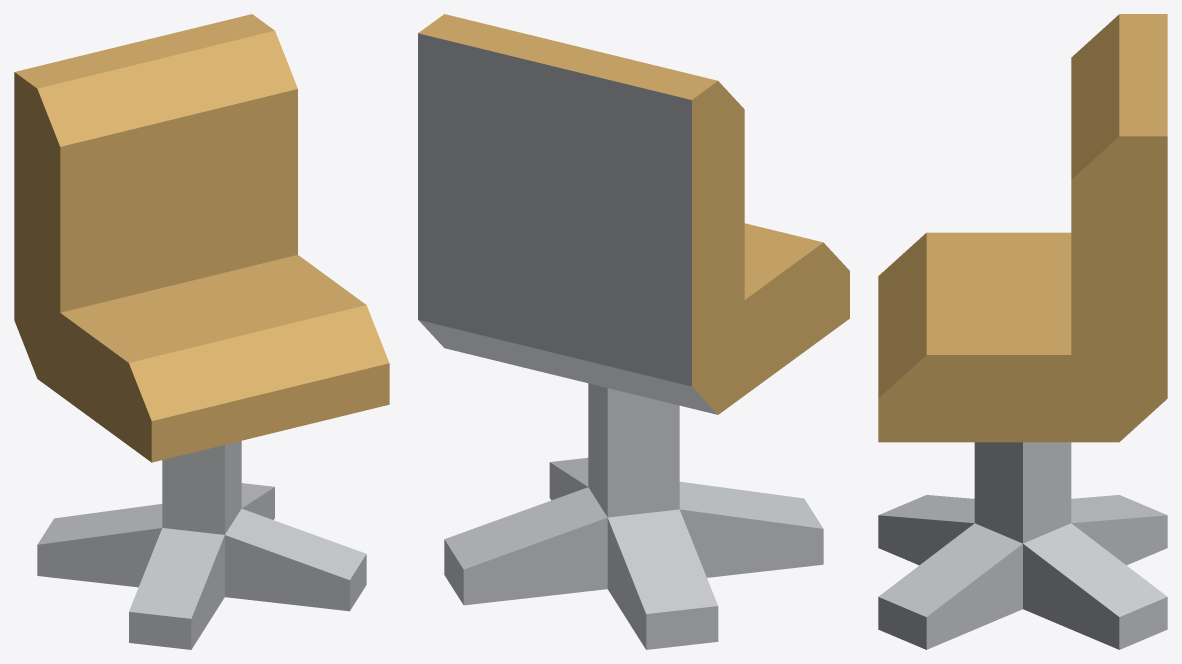
Rendered from desk_chair.glb.
3 renders of one model, left to right at view 1: azimuth 30°, elevation 25°; view 2: azimuth 150°, elevation 25°; view 3: azimuth 270°, elevation 25°, orthographic. The views are drawn at different scales.
Parts seen in each view (by area): view 1: desk_chair; view 2: desk_chair; view 3: desk_chair.
Boxes of the visible parts, x1,y1,x2,y2 form: desk_chair: (14,14,389,649); desk_chair: (418,14,849,649); desk_chair: (878,14,1167,649).
Bounding box in the file's own units: 0.15 × 0.2937 × 0.15.
